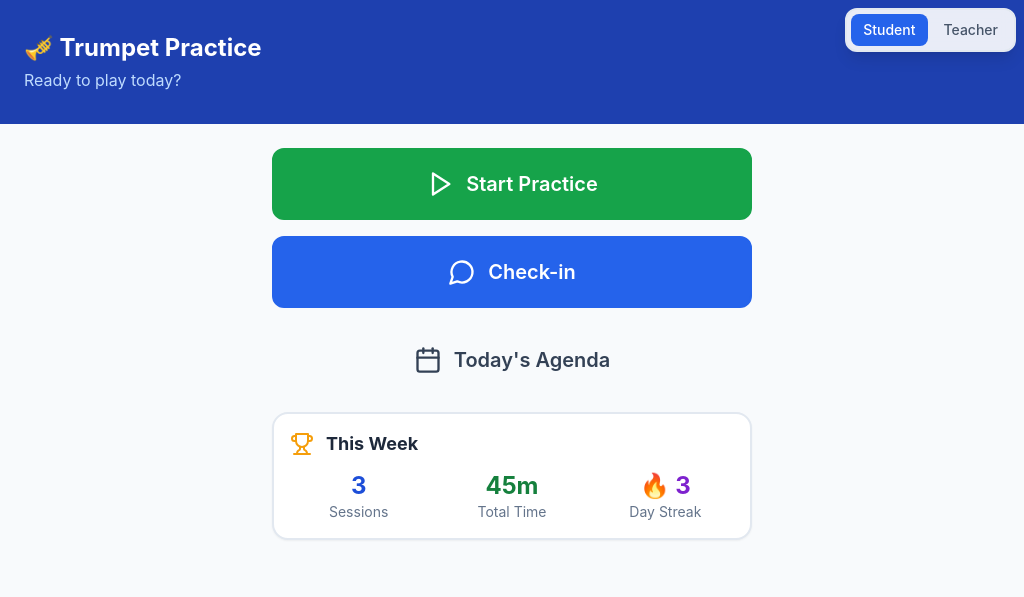
Test: App › switches back to student view
The width and height of the screenshot is (1024, 597).
Click the button "Teacher". click: point(971, 30)
box: [932, 14, 1010, 46]
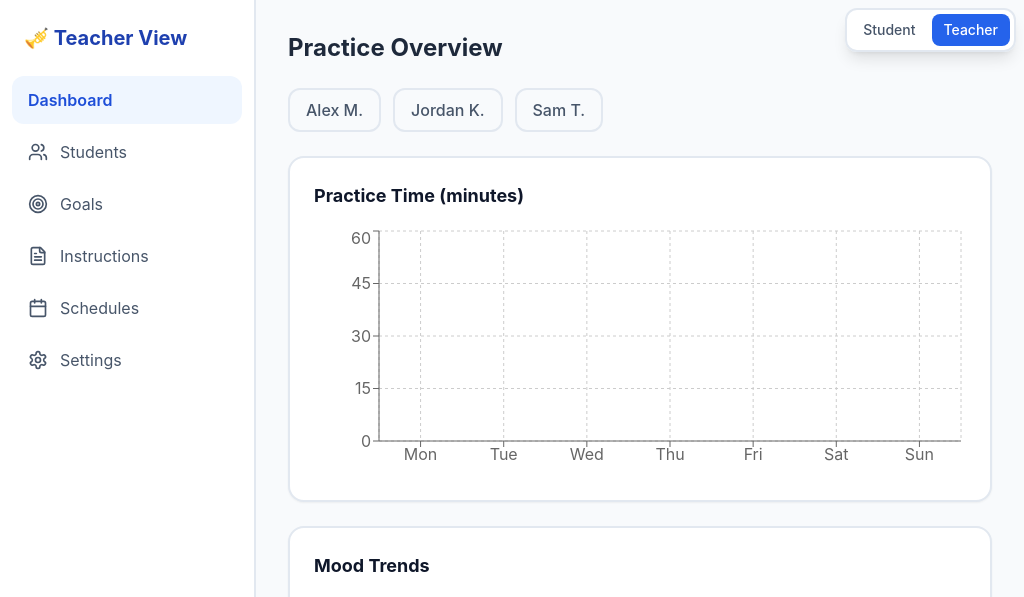
Click the button "Student". click: point(889, 30)
box: [851, 14, 928, 46]
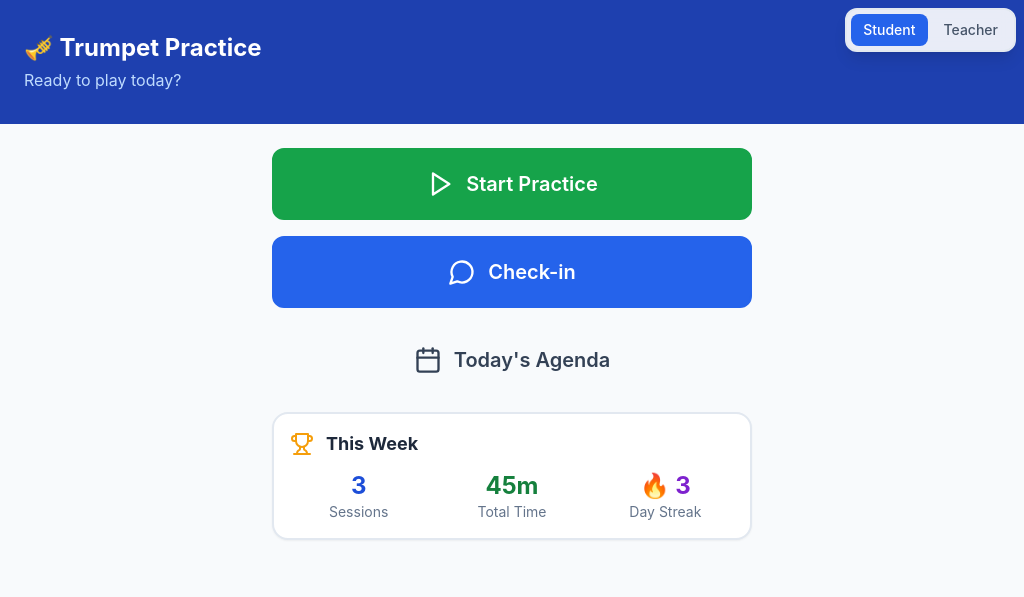
Now the heading "🎺 Trumpet Practice" is shown, box [24, 33, 262, 62]
